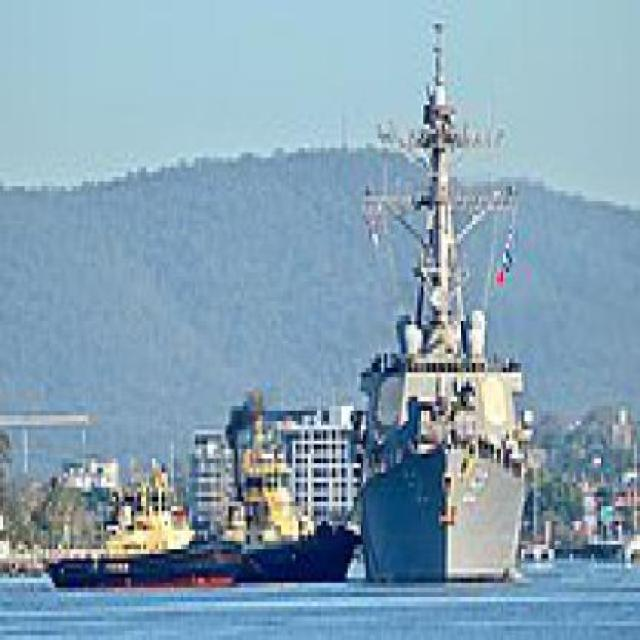warship2: (354, 1, 543, 593)
